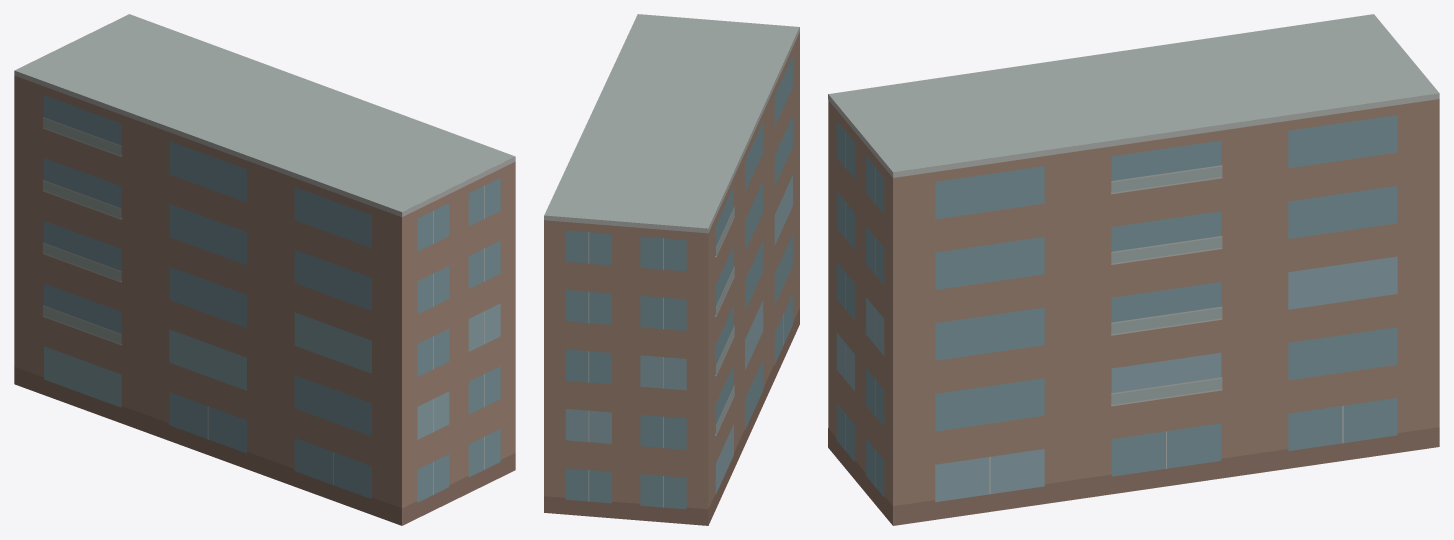
Rendered from survey-upis-32960720.glb.
3 renders of one model, left to right at view 1: azimuth 30°, elevation 25°; view 2: azimuth 150°, elevation 25°; view 3: azimuth 270°, elevation 25°, orthographic. The views are drawn at different scales.
Visible parts, largest first — view 1: survey-upis-32960720.tmp; view 2: survey-upis-32960720.tmp; view 3: survey-upis-32960720.tmp.
Part boxes in pixels (left/top/right/bottom): survey-upis-32960720.tmp: left=14, top=14, right=515, bottom=525; survey-upis-32960720.tmp: left=544, top=14, right=799, bottom=525; survey-upis-32960720.tmp: left=828, top=14, right=1439, bottom=525.
Bounding box in the file's own units: 14.61 × 15.2 × 23.83.
